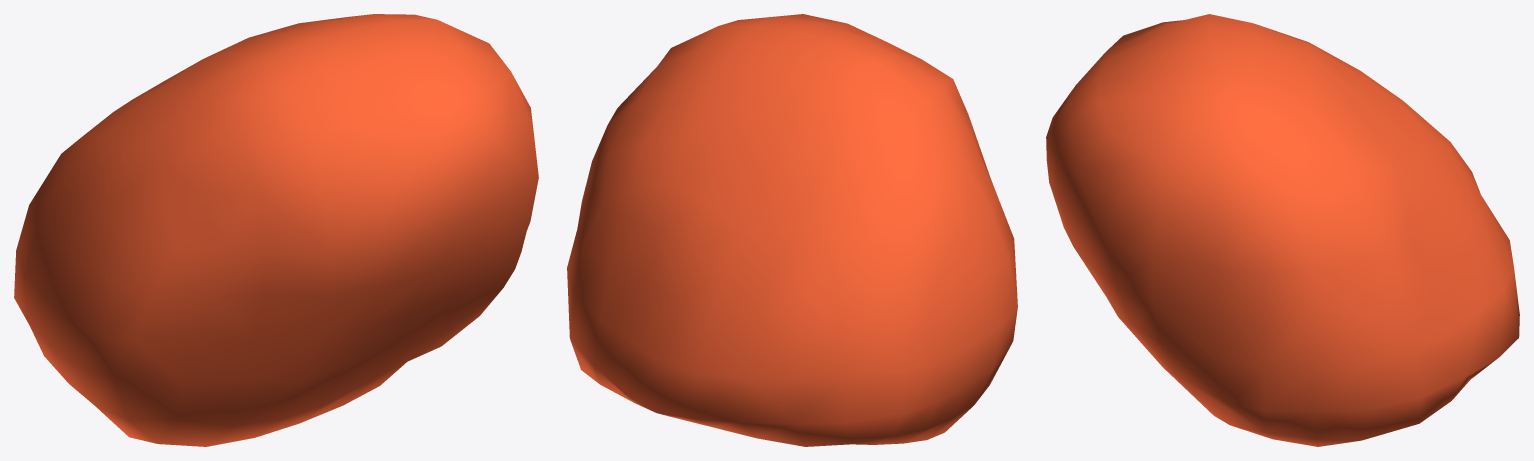
3 renders of one model, left to right at view 1: azimuth 30°, elevation 25°; view 2: azimuth 150°, elevation 25°; view 3: azimuth 270°, elevation 25°, orthographic. The views are drawn at different scales.
Visible parts, largest first — view 1: Roca15; view 2: Roca15; view 3: Roca15.
Part boxes in pixels (x1=…): Roca15: x1=14, y1=14, x2=538, y2=446; Roca15: x1=567, y1=14, x2=1017, y2=446; Roca15: x1=1046, y1=14, x2=1519, y2=446.
Size of the model in its own units: 79.46 by 65.63 by 76.57.
